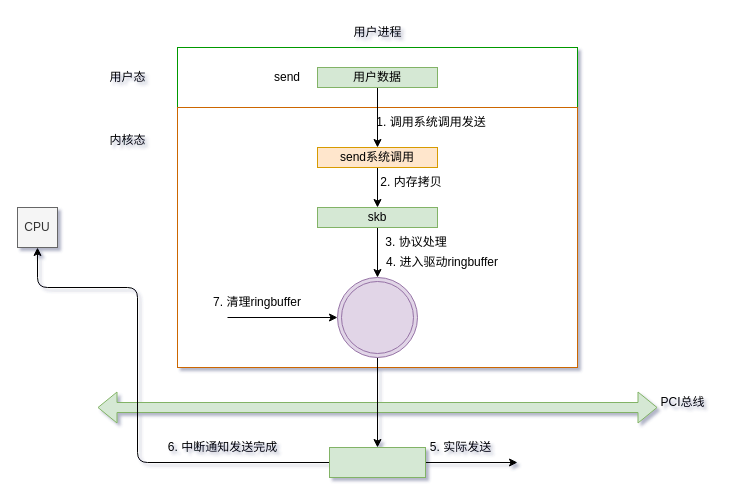
Some shapes in this 741 by 501 pixel diagram are drawn without their labels. The centre of each missing label's shape, as x and y in pixels:
传输队列: the point at 377,317
网卡: the point at 377,462
